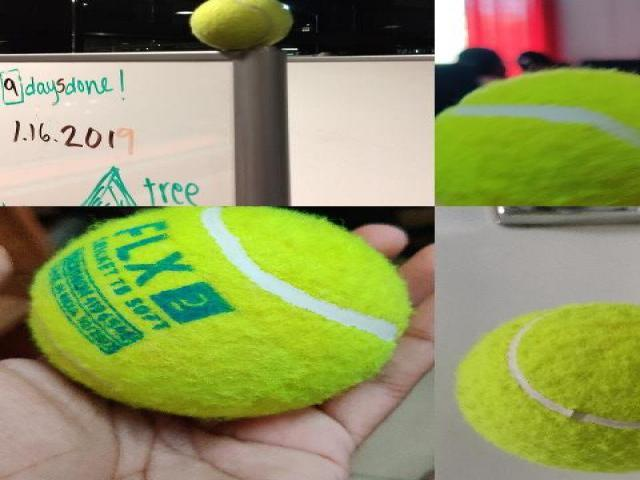tennis-ball: (30, 206, 410, 417), (451, 300, 639, 476), (435, 68, 639, 206), (188, 0, 296, 50)
